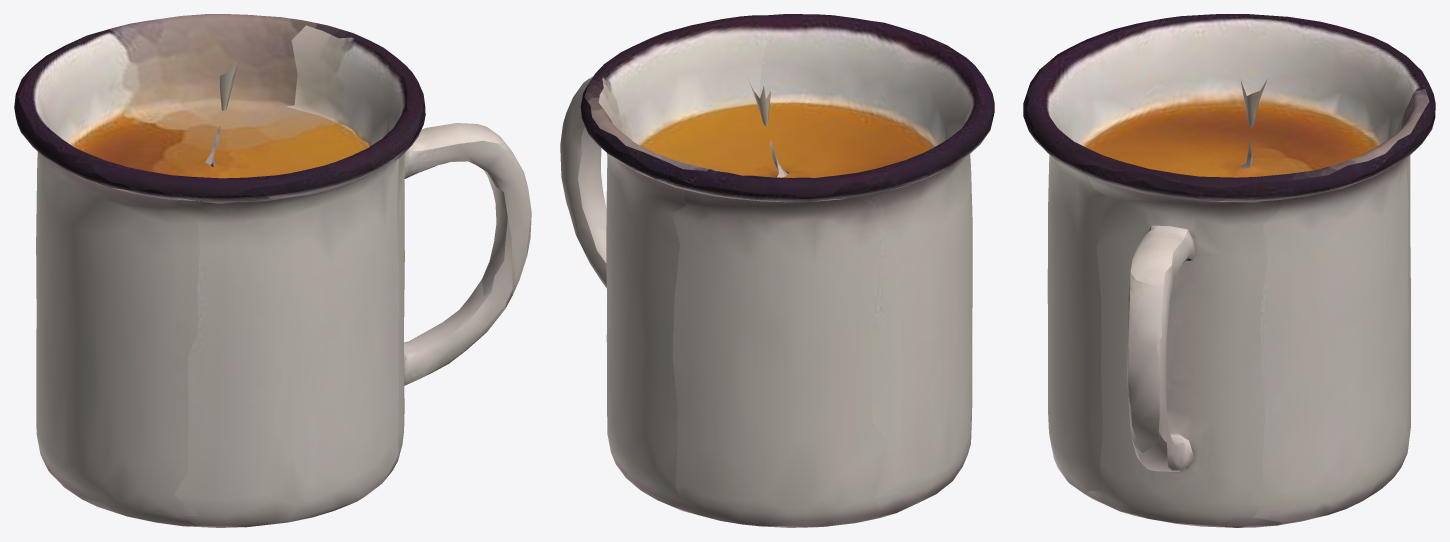
Rendered from tea.glb.
The picture shows the model from 3 angles, left to right: view 1: azimuth 30°, elevation 25°; view 2: azimuth 150°, elevation 25°; view 3: azimuth 270°, elevation 25°; orthographic projection.
Parts seen in each view (by area): view 1: item_tea; view 2: item_tea; view 3: item_tea.
Part boxes in pixels (x1,y1,x2,y2): item_tea: (14,14,531,527); item_tea: (560,14,994,527); item_tea: (1023,14,1435,527).
Bounding box in the file's own units: 1 × 0.8426 × 0.8065.
1 material, 1 textured.
